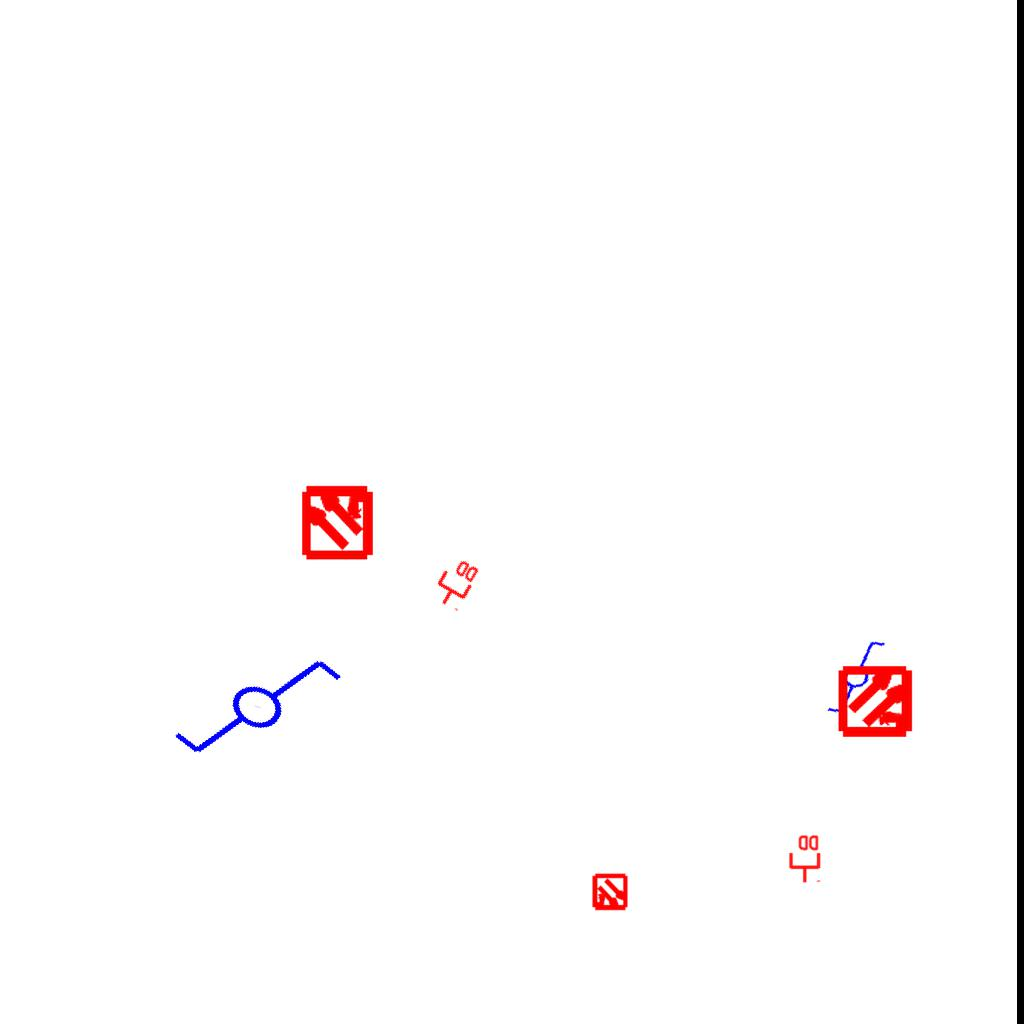Datenanschluss_zweifach: (427, 551, 483, 614), (787, 833, 821, 884)
OT_Multisensormelder_(Kombination_RMO_WMD): (281, 464, 394, 577), (821, 645, 934, 758), (582, 865, 638, 921)
Wechselschalter: (150, 605, 351, 799), (808, 635, 896, 719)
